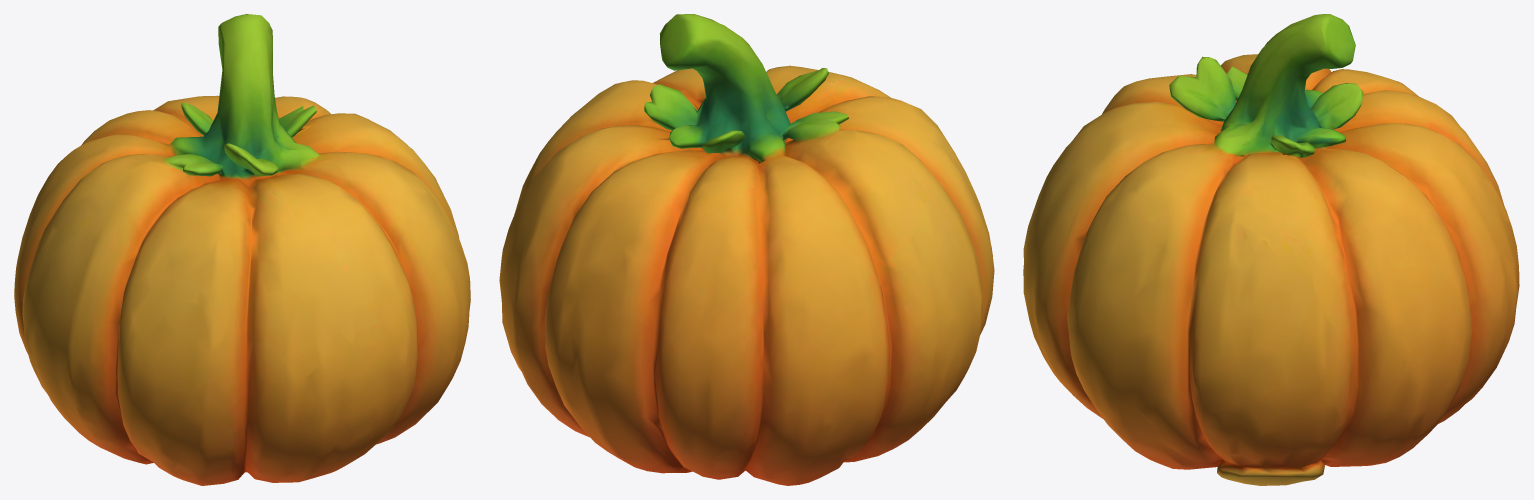
The model's file is pumpkin.glb.
3 renders of one model, left to right at view 1: azimuth 30°, elevation 25°; view 2: azimuth 150°, elevation 25°; view 3: azimuth 270°, elevation 25°, orthographic. The views are drawn at different scales.
Visible parts, largest first — view 1: tripo_node_25b356d3-802c-42e3-beca-9e727e2732ed; view 2: tripo_node_25b356d3-802c-42e3-beca-9e727e2732ed; view 3: tripo_node_25b356d3-802c-42e3-beca-9e727e2732ed.
Boxes of the visible parts, x1,y1,x2,y2 form: tripo_node_25b356d3-802c-42e3-beca-9e727e2732ed: (14,14,470,485); tripo_node_25b356d3-802c-42e3-beca-9e727e2732ed: (499,14,994,485); tripo_node_25b356d3-802c-42e3-beca-9e727e2732ed: (1023,14,1519,485).
Size of the model in its own units: 0.2103 by 0.2 by 0.2114.
1 material, 1 textured.
